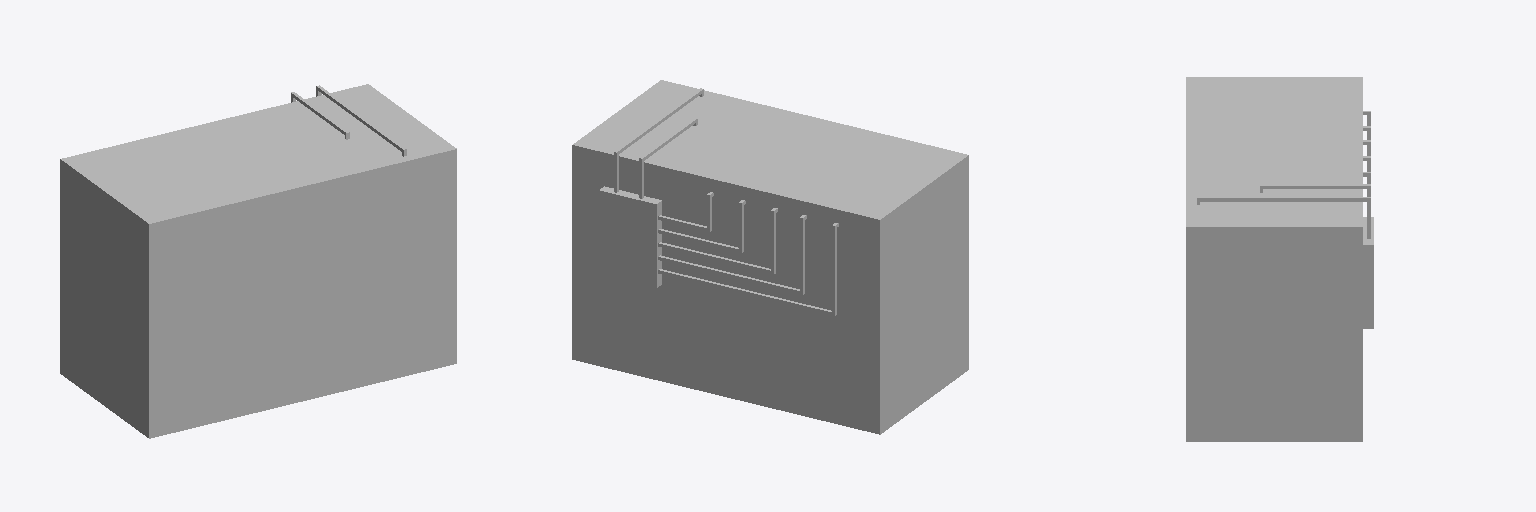
The model's file is electric_oven.obj.
3 renders of one model, left to right at view 1: azimuth 30°, elevation 25°; view 2: azimuth 150°, elevation 25°; view 3: azimuth 270°, elevation 25°, orthographic.
Visible parts, largest first — view 1: cube; view 2: cube; view 3: cube.
Boxes of the visible parts, x1=… form: cube: x1=60, y1=84, x2=456, y2=438; cube: x1=572, y1=80, x2=968, y2=434; cube: x1=1186, y1=77, x2=1373, y2=441.
Bounding box in the file's own units: 6 × 4.12 × 3.19.